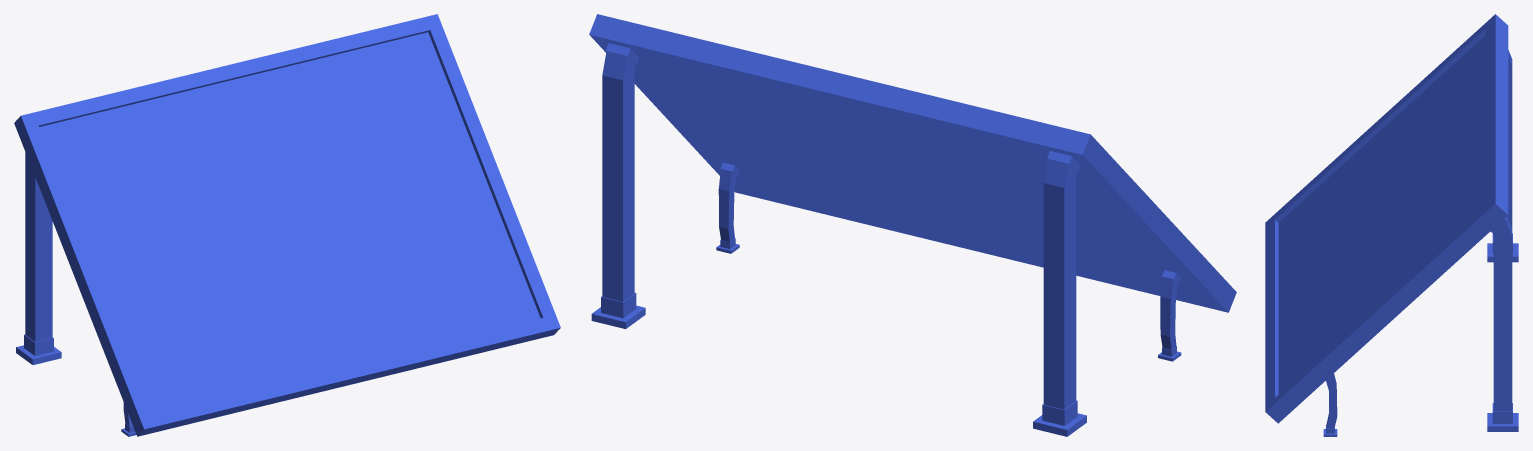
Rendered from SolarWithout_Final_FBX.fbx.
3 renders of one model, left to right at view 1: azimuth 30°, elevation 25°; view 2: azimuth 150°, elevation 25°; view 3: azimuth 270°, elevation 25°, orthographic. The views are drawn at different scales.
Visible parts, largest first — view 1: Sw/o Solar Panel Base, Sw/o Back Legs; view 2: Sw/o Solar Panel Base, Sw/o Back Legs, Sw/o Front Legs; view 3: Sw/o Solar Panel Base, Sw/o Back Legs, Sw/o Front Legs.
Part boxes in pixels (x1=…): Sw/o Solar Panel Base: x1=14, y1=14, x2=560, y2=436; Sw/o Back Legs: x1=16, y1=152, x2=61, y2=364; Sw/o Solar Panel Base: x1=589, y1=14, x2=1236, y2=312; Sw/o Back Legs: x1=591, y1=43, x2=1086, y2=436; Sw/o Front Legs: x1=716, y1=162, x2=1181, y2=361; Sw/o Solar Panel Base: x1=1265, y1=14, x2=1508, y2=423; Sw/o Back Legs: x1=1487, y1=50, x2=1518, y2=431; Sw/o Front Legs: x1=1323, y1=373, x2=1337, y2=436.
Size of the model in its own units: 969 by 573 by 546.
